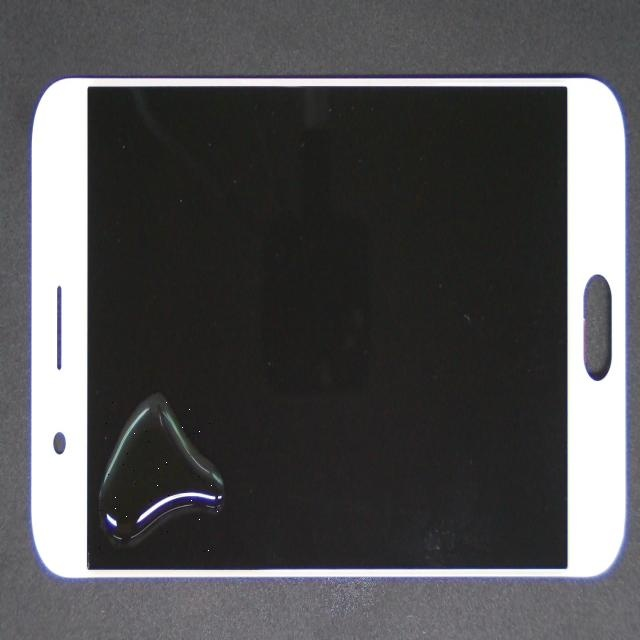oil: (94, 161, 193, 640)
